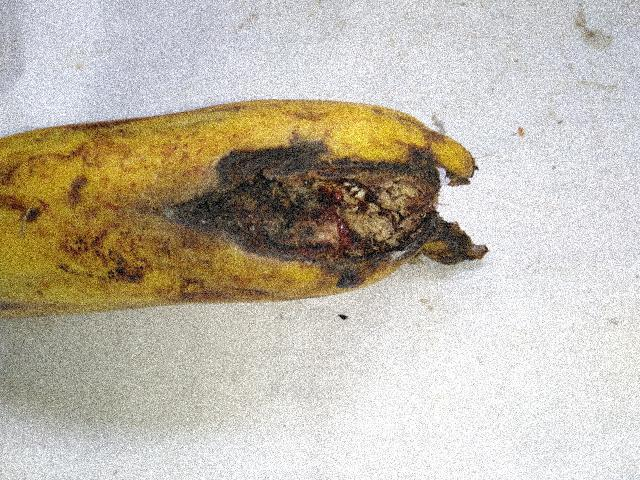rotten: (170, 97, 508, 299)
